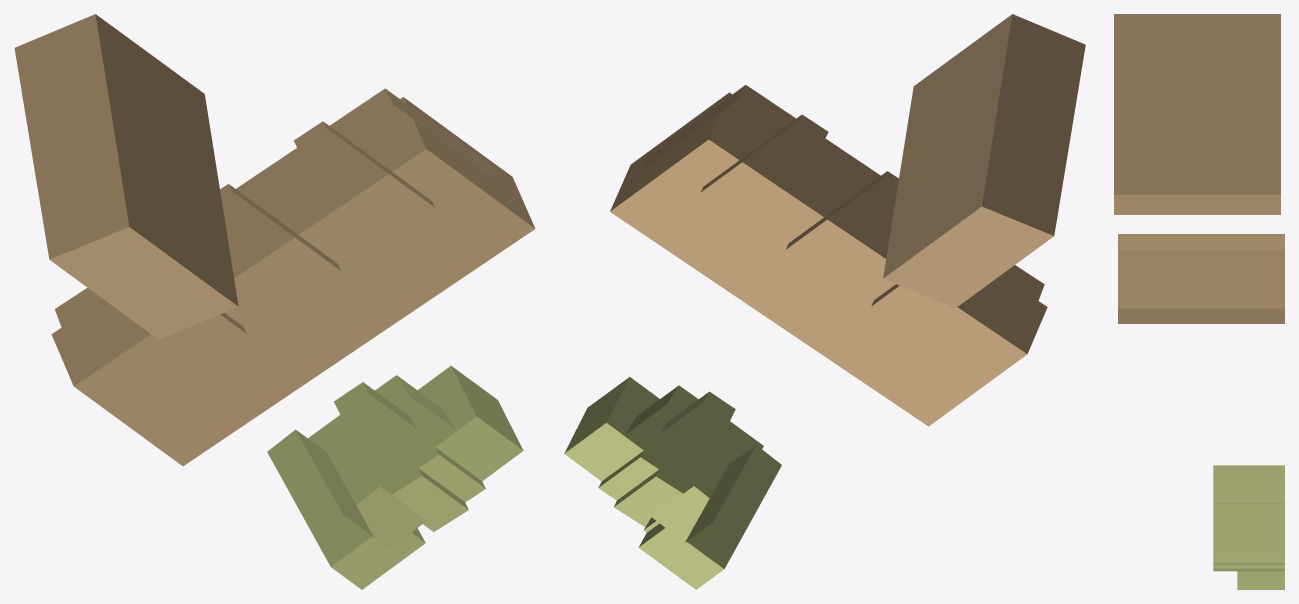
3 renders of one model, left to right at view 1: azimuth 30°, elevation 25°; view 2: azimuth 150°, elevation 25°; view 3: azimuth 270°, elevation 25°, orthographic. The views are drawn at different scales.
Visible parts, largest first — view 1: 0_1_0_2_0_0_0_2; view 2: 0_1_0_2_0_0_0_2; view 3: 0_1_0_2_0_0_0_2.
Boxes of the visible parts, x1,y1,x2,y2 form: 0_1_0_2_0_0_0_2: (14, 14, 535, 589); 0_1_0_2_0_0_0_2: (564, 14, 1085, 589); 0_1_0_2_0_0_0_2: (1114, 14, 1284, 589).
Size of the model in its own units: 51.59 by 65.01 by 21.5.
